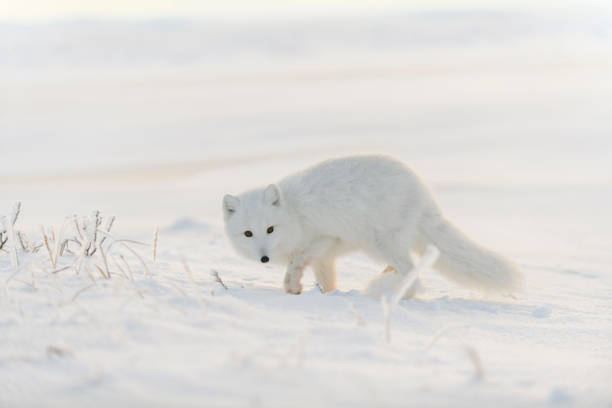arcticfox: (228, 199, 290, 280)
